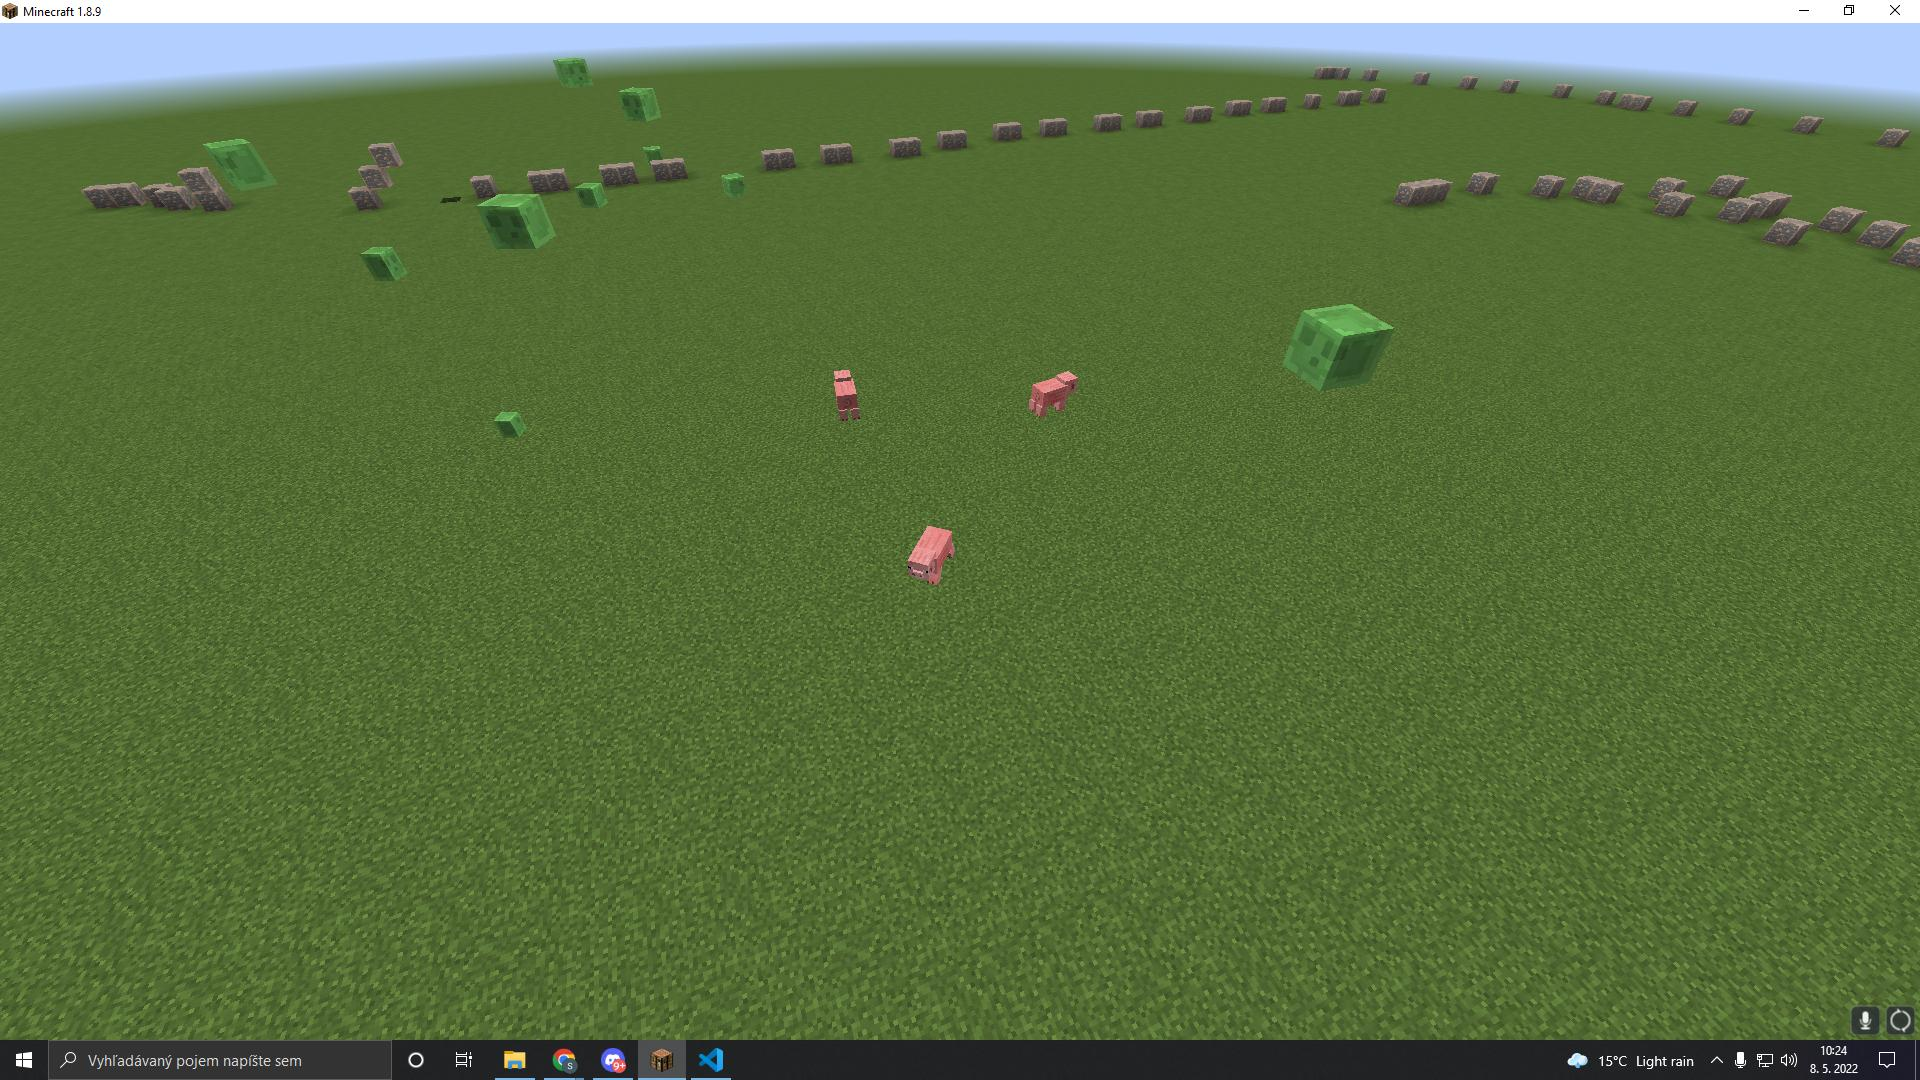pig: (894, 517, 972, 596), (1021, 361, 1089, 430), (823, 356, 877, 438)
